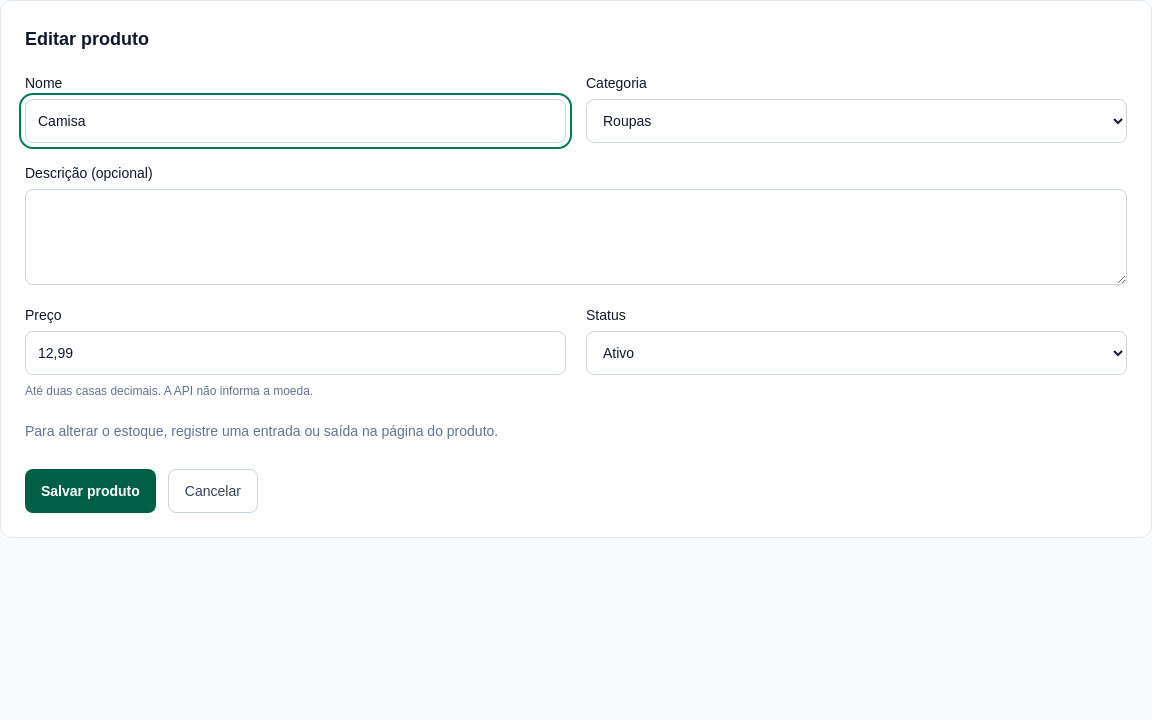
Test: formulário de produto › não envia preço com mais de duas casas decimais
Replace the text in the field labelled "Preço" with "1,999" at [296, 353], box [25,331,566,375]
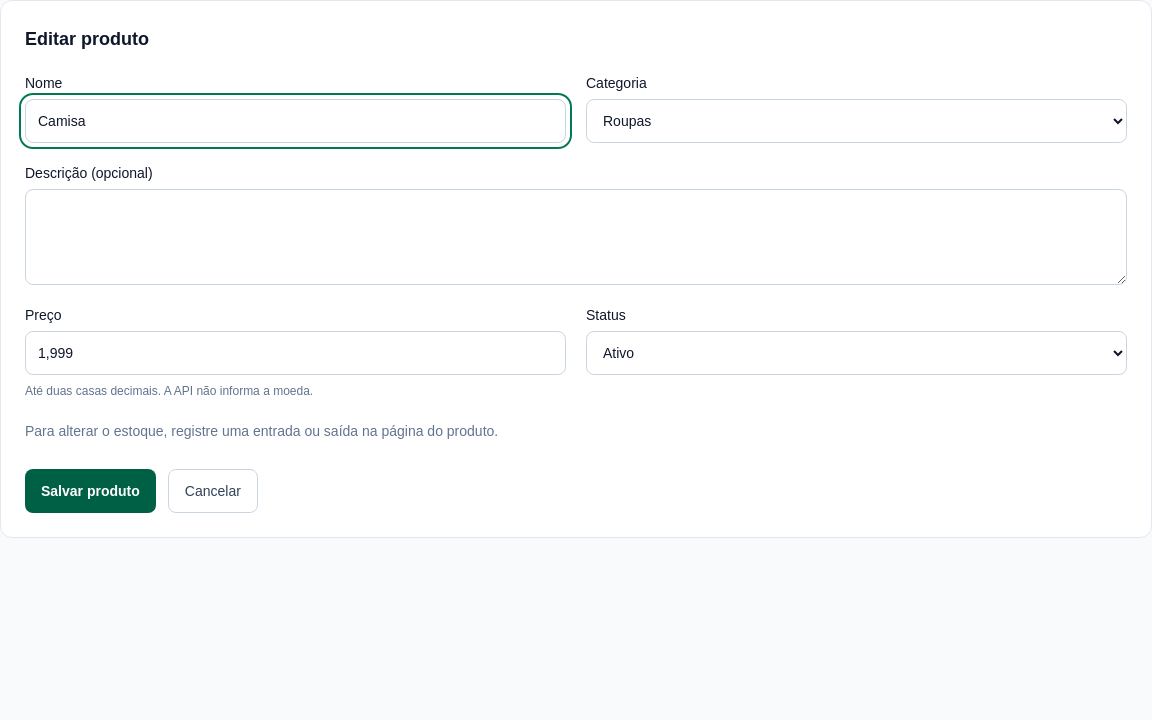
Submit the form "Editar produto"
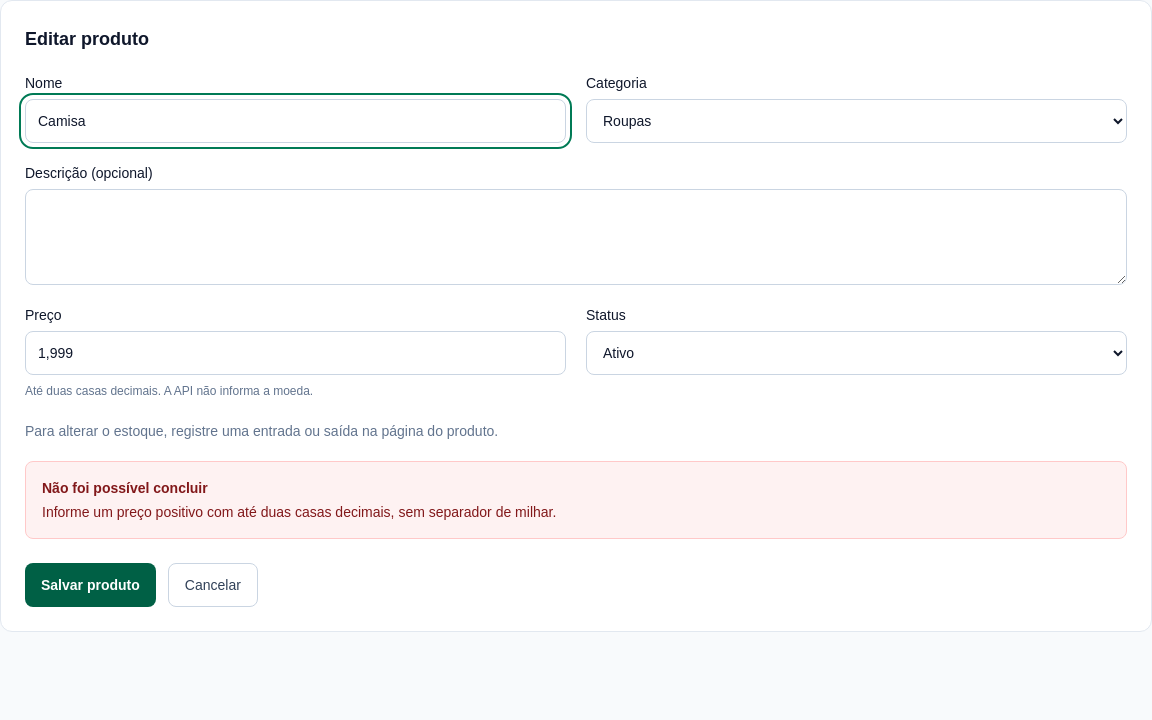
expect the message is shown: met, box [25,461,1127,539]
